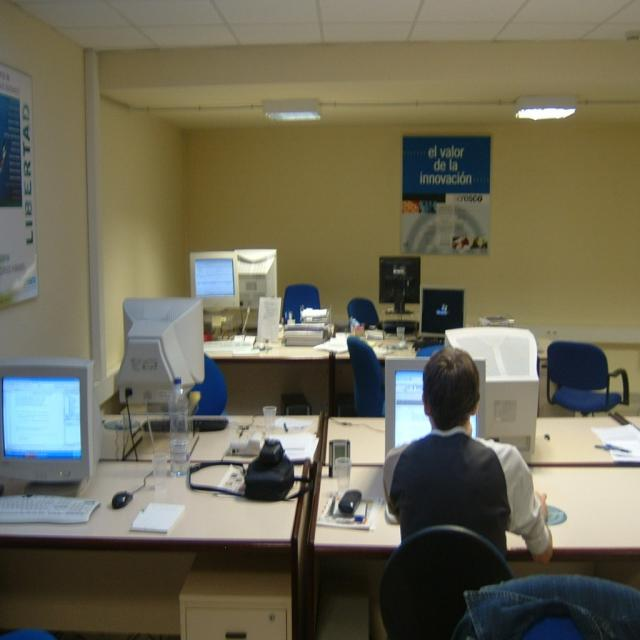chair: (379, 524, 514, 639), (453, 573, 639, 639), (546, 341, 628, 420), (346, 334, 386, 417), (190, 352, 228, 417), (346, 298, 381, 332)
desk: (0, 410, 321, 639)
keyboard: (0, 494, 101, 525)
mouse: (339, 488, 362, 512), (110, 492, 134, 509)
person: (386, 348, 560, 562)
tv: (0, 357, 96, 488), (190, 254, 238, 306), (420, 286, 466, 338), (379, 256, 421, 310)
